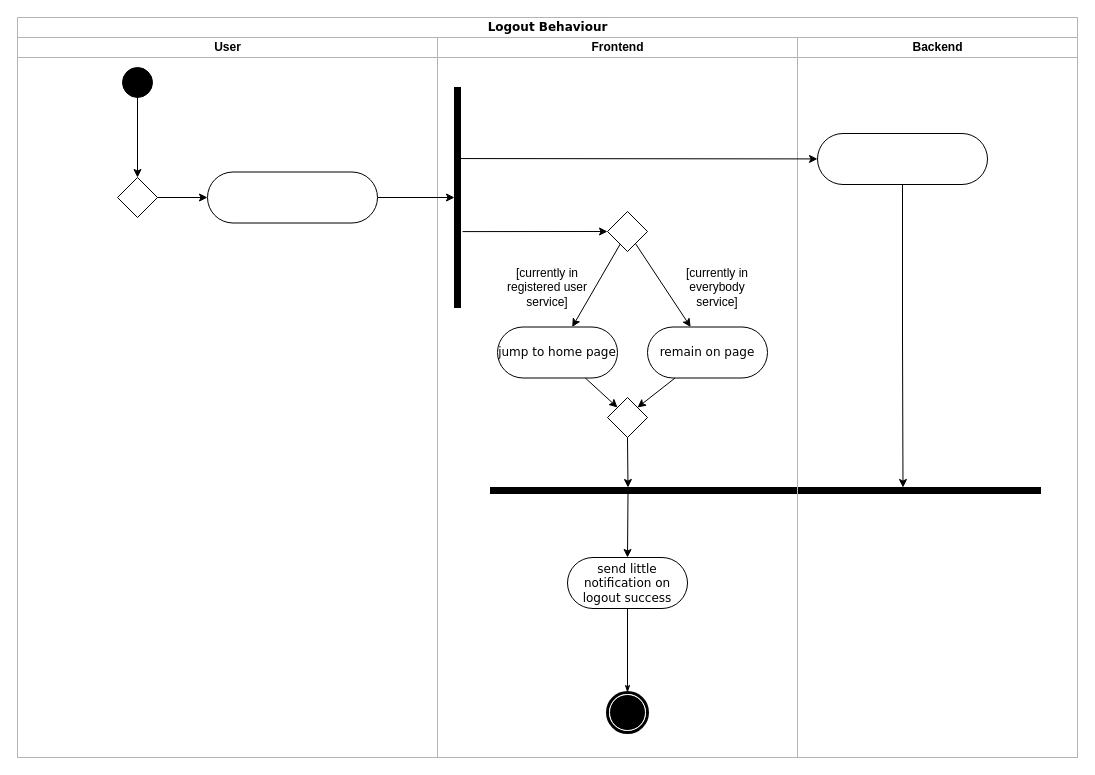
Some shapes in this 1095 by 775 pixel diagram are drawn without their labels. Each missing label, with the centre of its shape:
clicks on logout: (x=292, y=197)
kill login token: (x=902, y=158)
